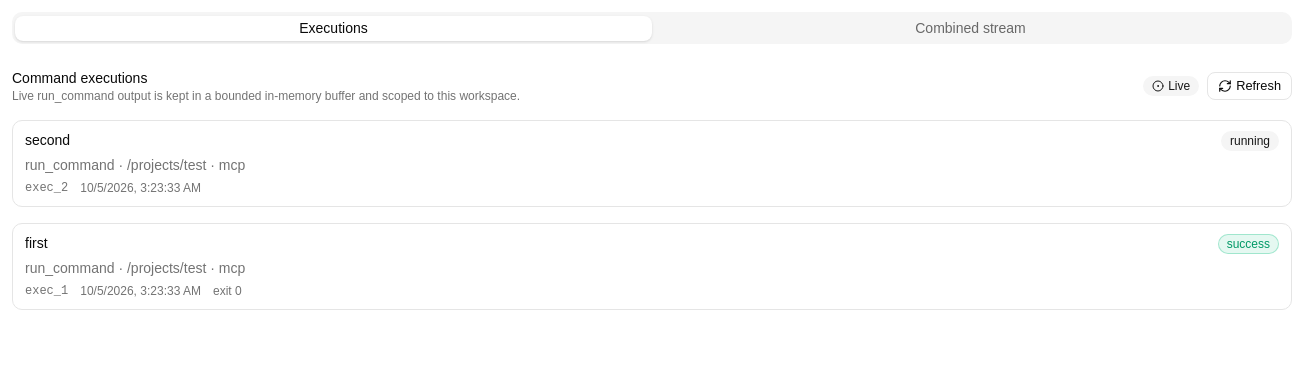
WorkspaceExecutions › streams all workspace commands into one combined view separated by execution id
This screenshot has width=1304, height=382.
Click the tab "Combined stream": [970, 28] box [652,16,1289,40]
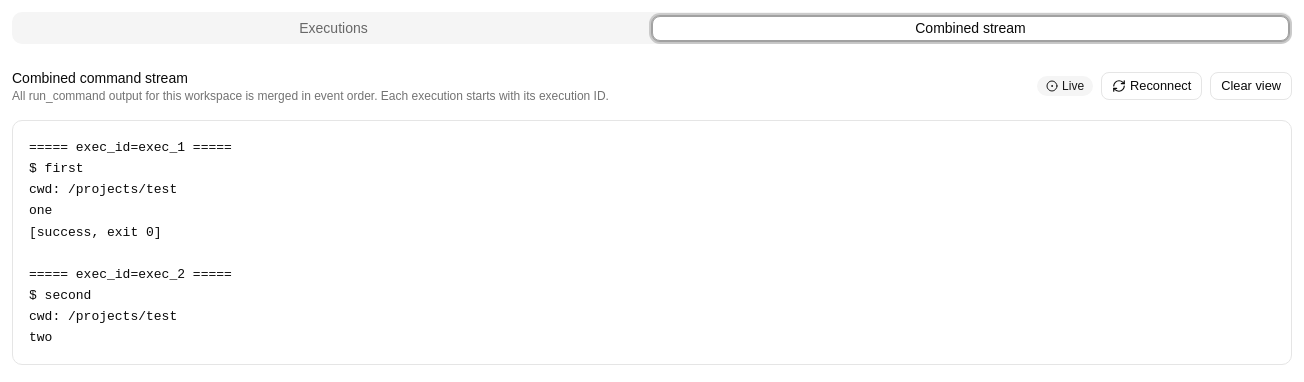
Expected: the text "exec_id=exec_1" is shown, [29,140,232,345]
Expected: the text "$ first" is shown, [29,140,232,345]
Expected: the text "[success, exit 0]" is shown, [29,140,232,345]
